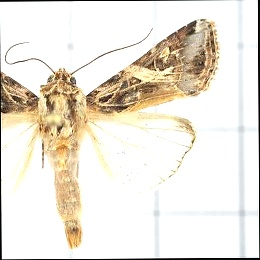Spodoptera litura: (1, 17, 223, 250)
